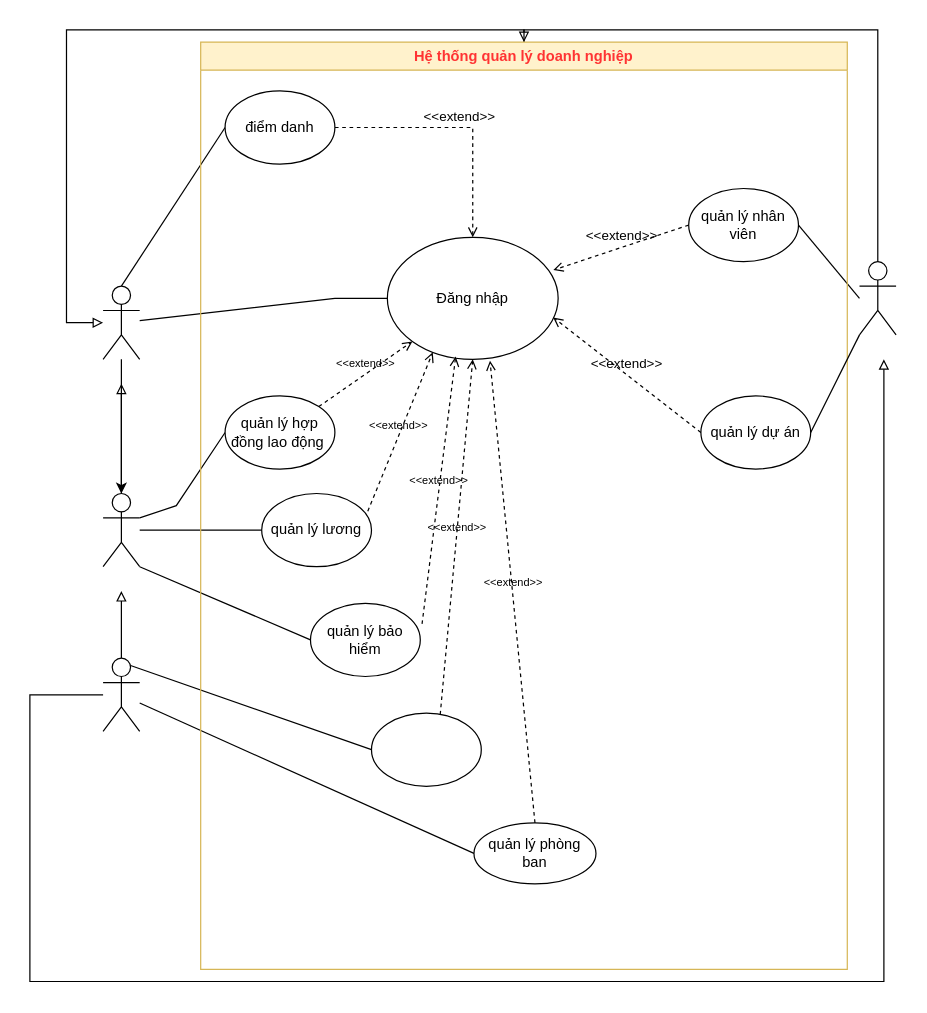
This 927x1013 diagram has some shape labels left out. The centre of each missing label's shape, as x and y in pixels:
"Admin" goes at pixel 121 694.
"Employee" goes at pixel 121 322.
"HR" goes at pixel 121 529.
"Manager" goes at pixel 877 297.
"quản lý tài khoản và phân quyền" goes at pixel 425 749.
